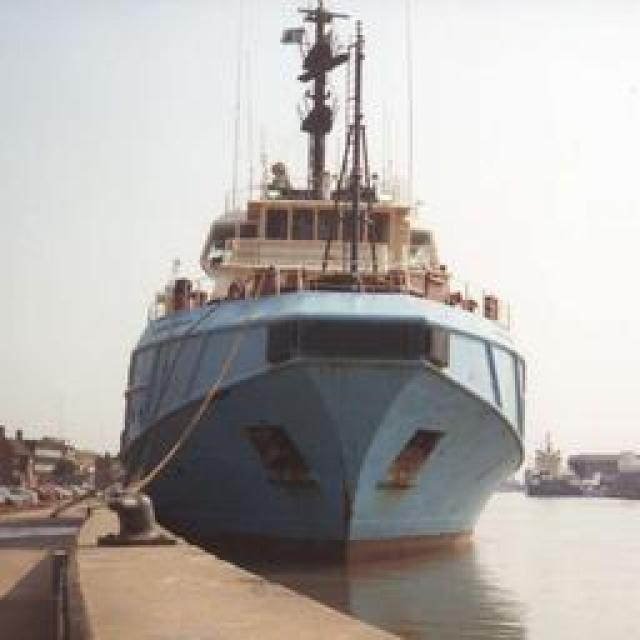CIV_Ship: (116, 173, 536, 556)
